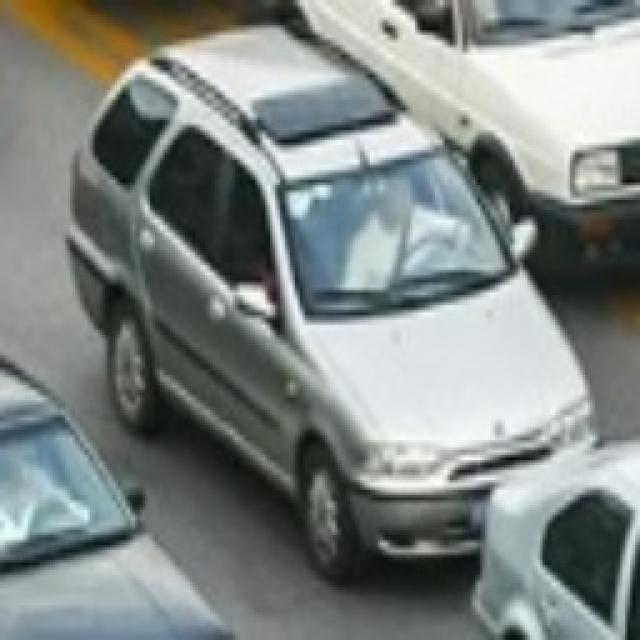windshield: (281, 145, 517, 314)
